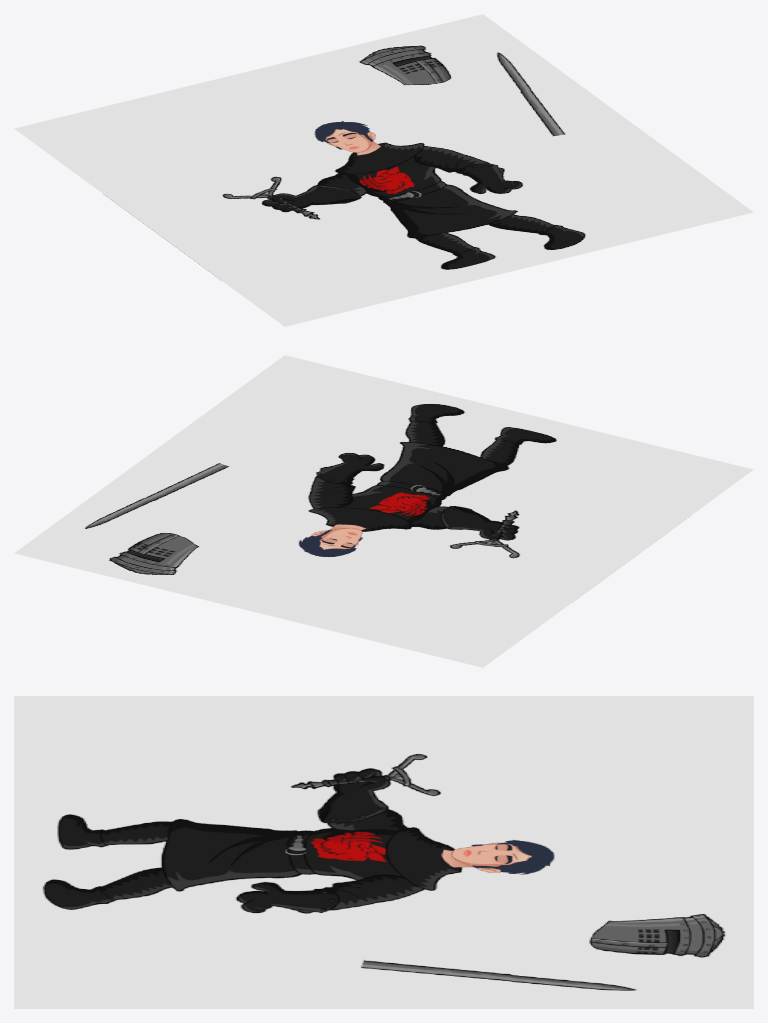
The model's file is Level 88 coffee cup Oh for fox sake.fbx.
The picture shows the model from 3 angles, top to bottom: view 1: azimuth 30°, elevation 25°; view 2: azimuth 150°, elevation 25°; view 3: azimuth 270°, elevation 25°; orthographic projection. The views are drawn at different scales.
Visible parts, largest first — view 1: Mesh, BlendMesh; view 2: Mesh, BlendMesh; view 3: Mesh, BlendMesh.
Boxes of the visible parts, <box> form: Mesh: <box>14,14,753,326</box>; BlendMesh: <box>103,125,499,280</box>; Mesh: <box>14,355,753,667</box>; BlendMesh: <box>294,448,690,602</box>; Mesh: <box>14,696,753,1008</box>; BlendMesh: <box>186,696,511,881</box>.
Bounding box in the file's own units: 2400 × 1 × 2400.
